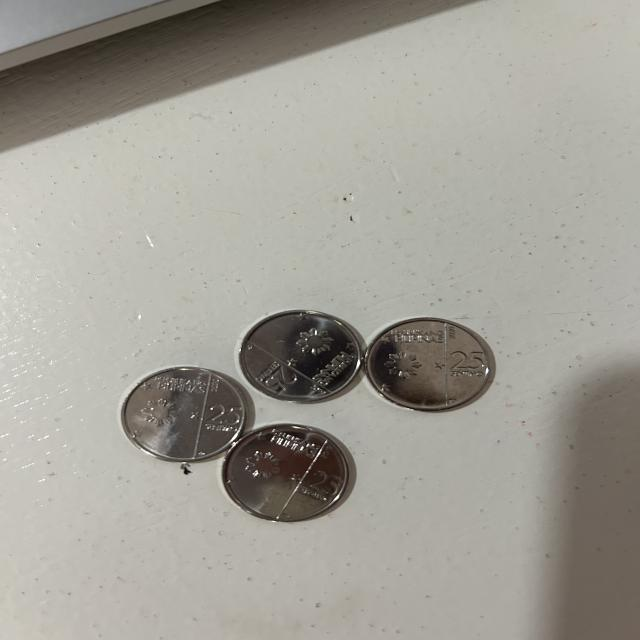25Cent_New_Front: (248, 360, 295, 397), (442, 346, 487, 384), (304, 468, 343, 507), (203, 400, 240, 436)
